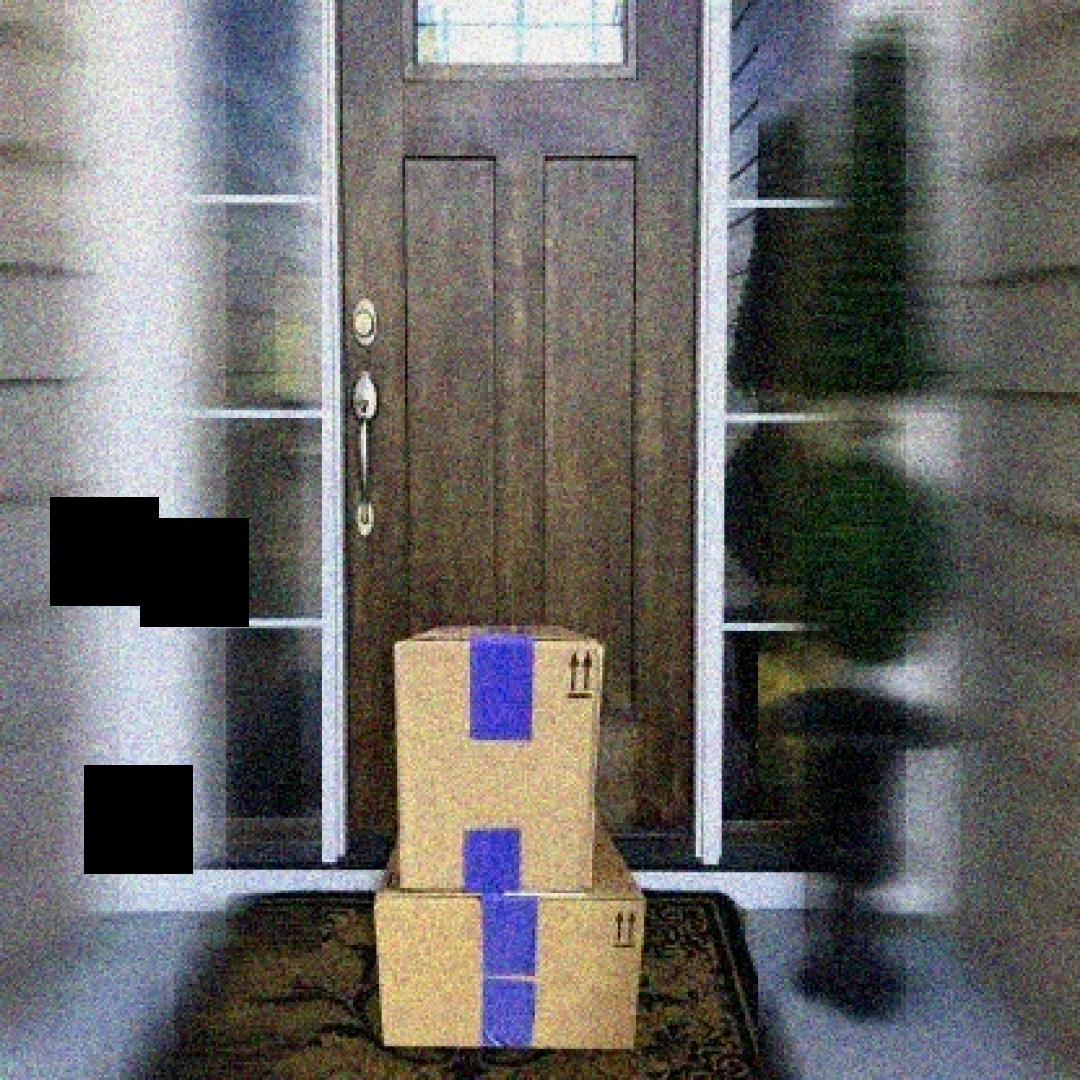package: (384, 612, 612, 904), (371, 880, 652, 1057)
